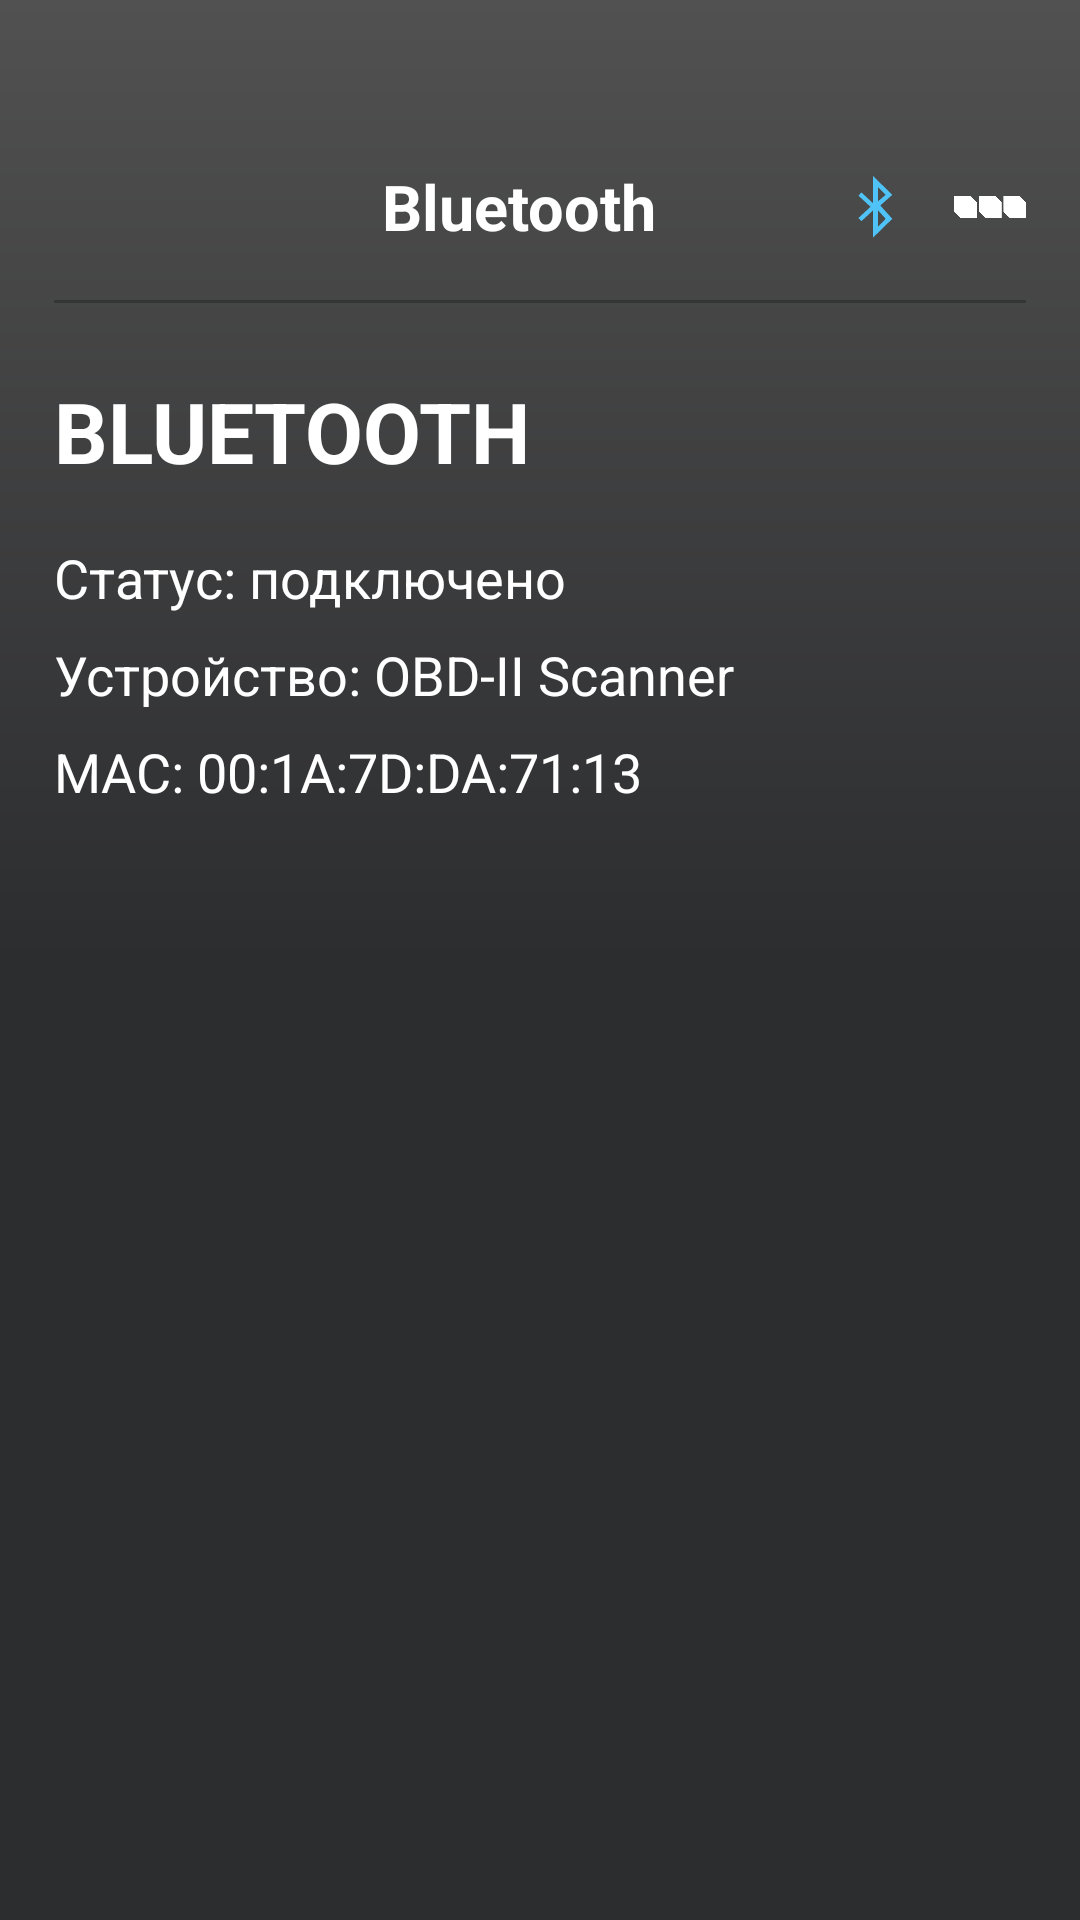

Where to tap for icons on this 1080×1920 app screen, as point (x, y):
Ещё: point (990, 207)
